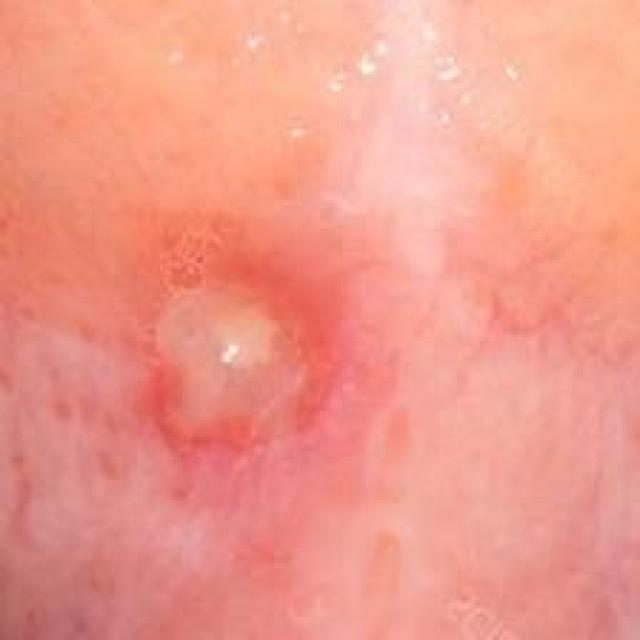others: (0, 29, 588, 640)
